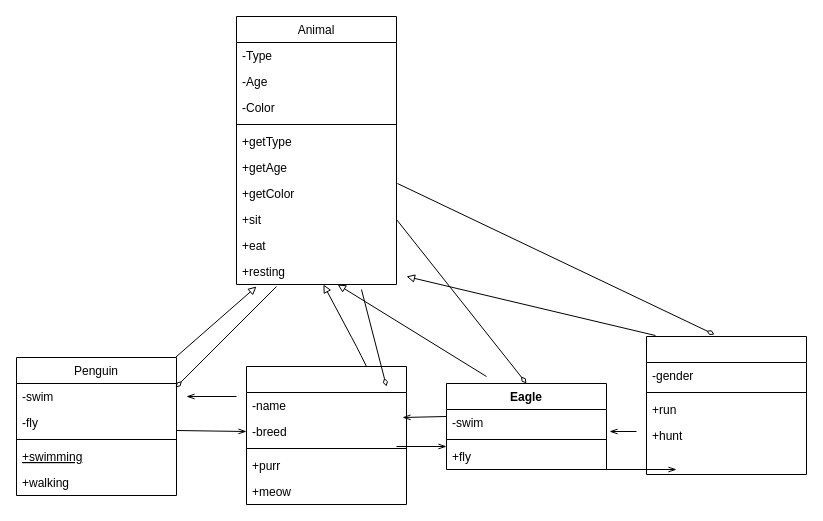
Some shapes in this 823 by 521 pixel diagram are drawn without their labels. Here are the shapes that lost their labels. From the top down, the box of each, then its label:
(646, 336, 806, 474): Tiger
(246, 366, 406, 504): Cat
